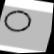no answer: (0, 7, 34, 36)
